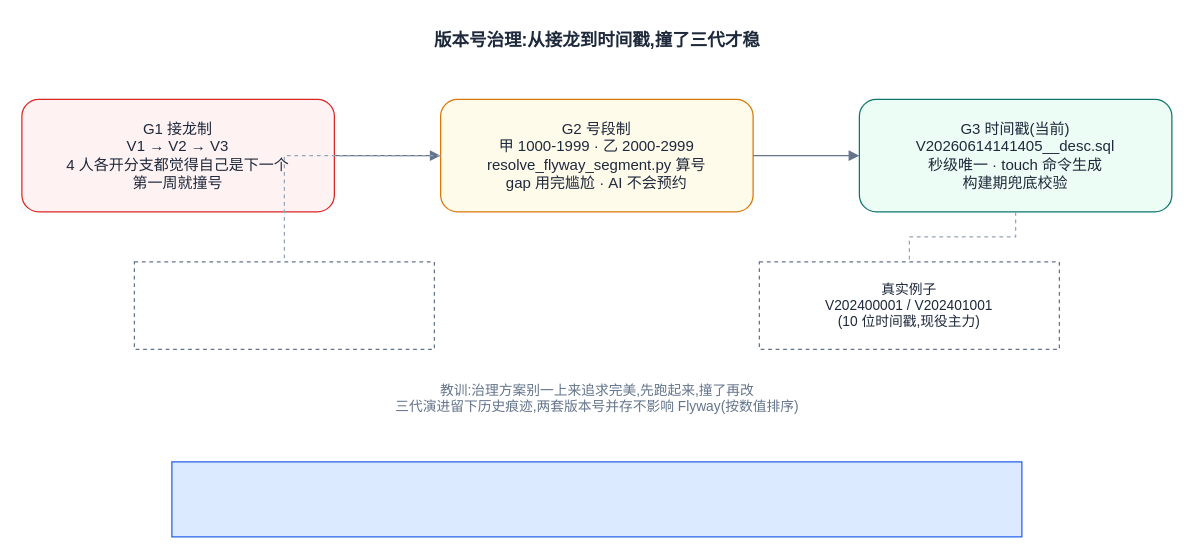
Image size: 1194x559. Some labels were removed from this diagram. Here are the shapes that lost their labels. From the top down, the centre of each, then its label:
(x=283, y=305): 真实例子 V1000 / V2014 / V2015 (号段制残留,目录里还在)
(x=596, y=499): 核心原则:凡是能机器校验的,绝不依赖人 版本号唯一 → 构建期脚本 · 漏执行 → 启动期校验 · tenant_id → review checklist
